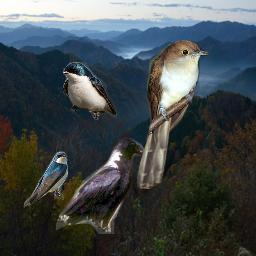Crow: (56, 135, 144, 234)
Cuckoo: (137, 39, 209, 189)
Swallow: (63, 62, 117, 120), (22, 150, 70, 208)
